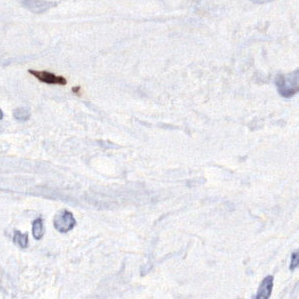Lymphocyte: (25, 66, 68, 87)
